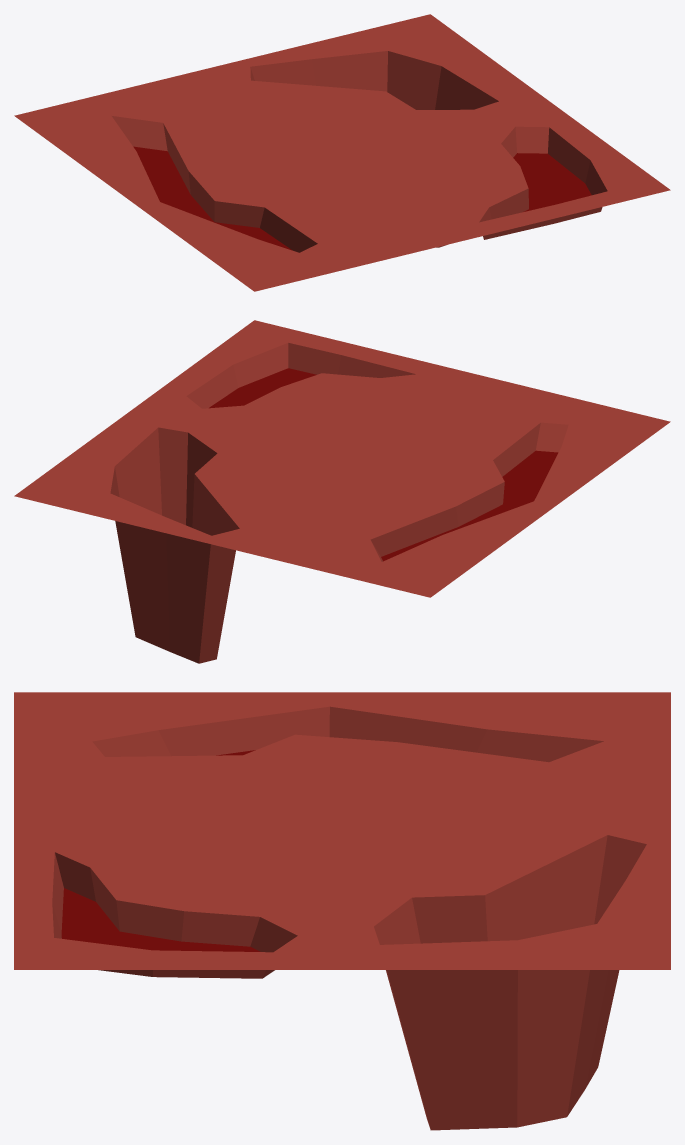
Rendered from Field_14.fbx.
The picture shows the model from 3 angles, top to bottom: view 1: azimuth 30°, elevation 25°; view 2: azimuth 150°, elevation 25°; view 3: azimuth 270°, elevation 25°; orthographic projection. The views are drawn at different scales.
Visible parts, largest first — view 1: Plane.031; view 2: Plane.031; view 3: Plane.031.
Boxes of the visible parts, x1,y1,x2,y2 form: Plane.031: [14, 14, 670, 291]; Plane.031: [14, 320, 670, 663]; Plane.031: [14, 692, 670, 1130].
Size of the model in its own units: 400 by 136 by 400.
